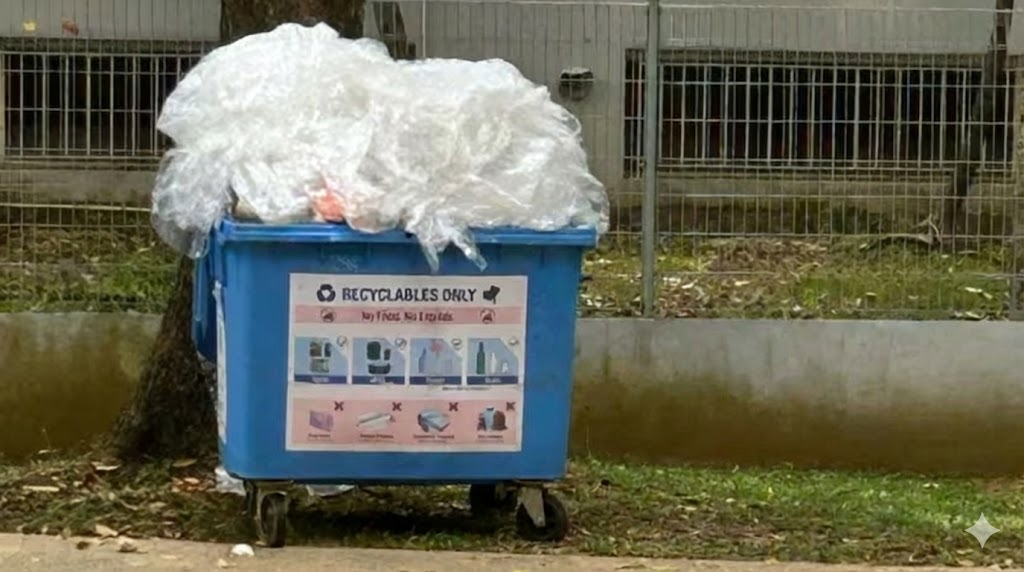bin_full: (152, 24, 608, 545)
